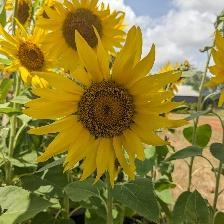sunflower: (22, 24, 193, 192)
